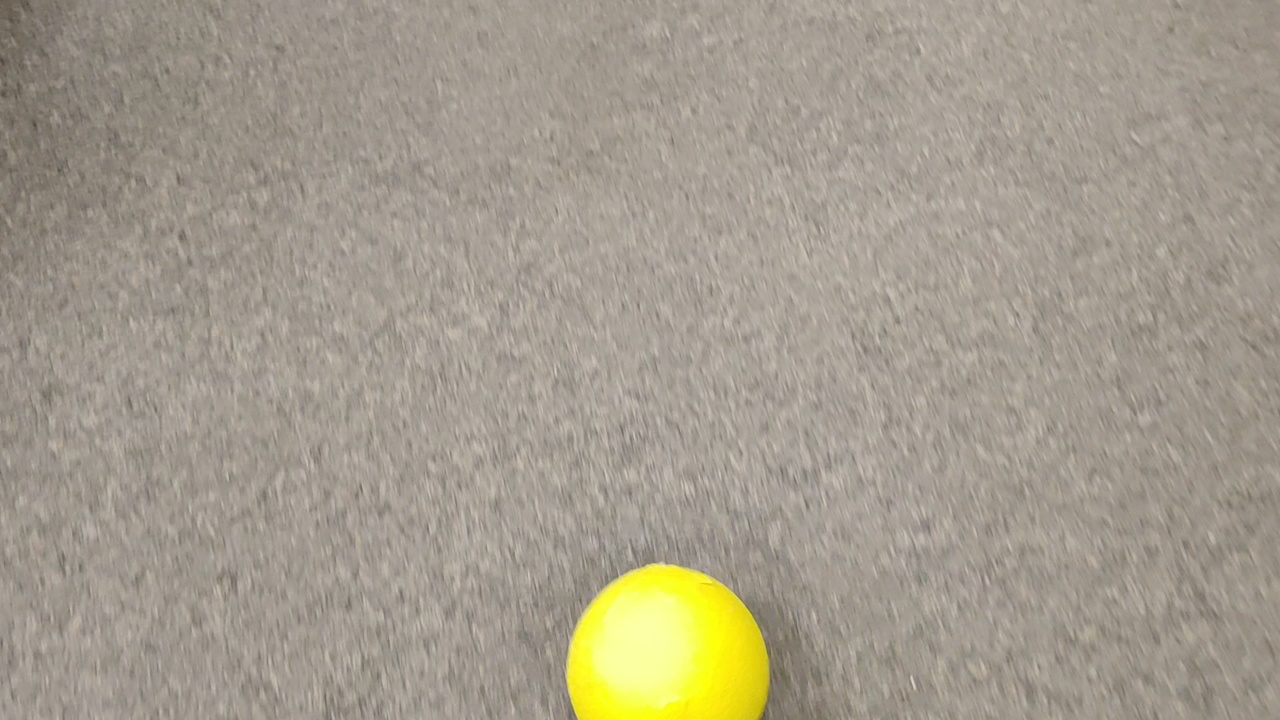Ball: (565, 564, 769, 719)
